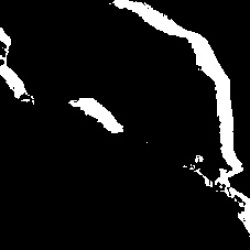crack: (114, 2, 249, 230), (2, 28, 35, 103), (69, 97, 128, 134)
